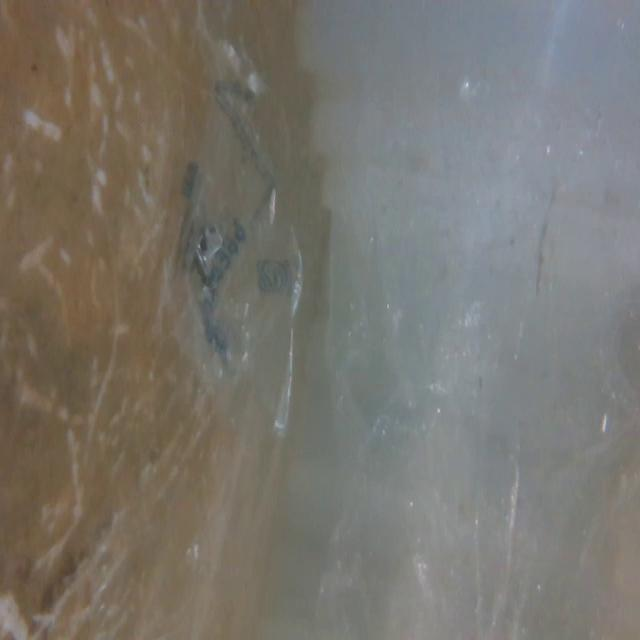plastic bags: (352, 38, 638, 587), (155, 66, 313, 468)
